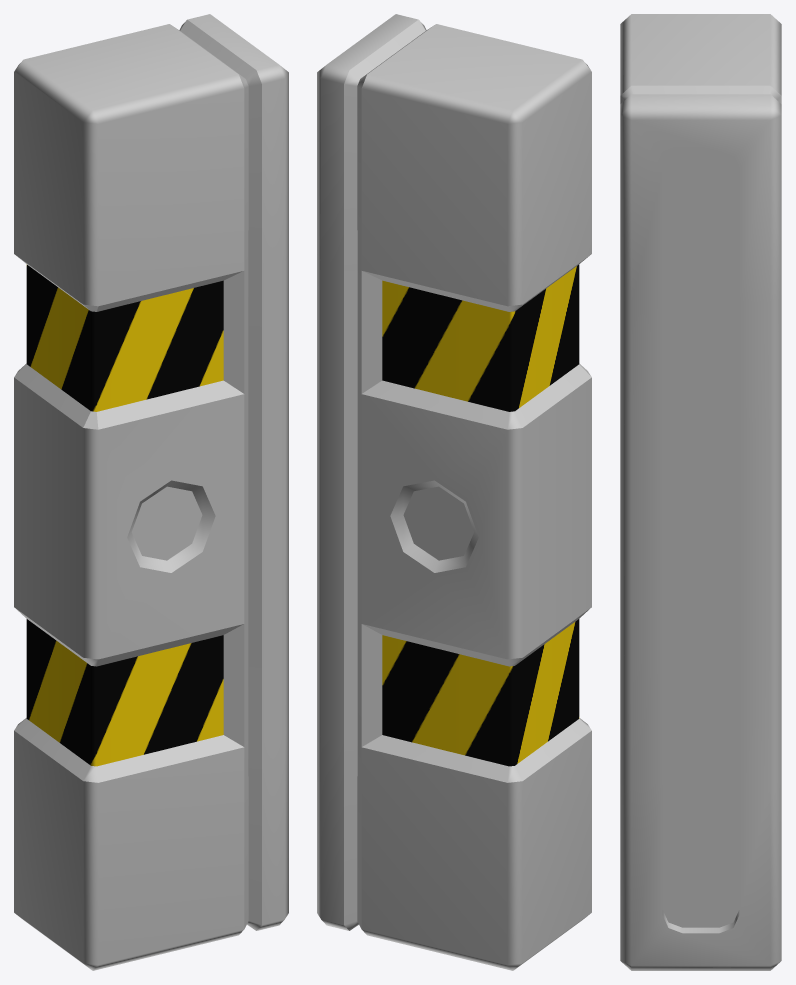
The model's file is obstacle_18_001.fbx.
3 views of the same model, side by side, from view 1: azimuth 30°, elevation 25°; view 2: azimuth 150°, elevation 25°; view 3: azimuth 270°, elevation 25° (orthographic).
Parts seen in each view (by area): view 1: obstacle_18_001; view 2: obstacle_18_001; view 3: obstacle_18_001.
Boxes of the visible parts, x1,y1,x2,y2 form: obstacle_18_001: (14, 14, 288, 970); obstacle_18_001: (317, 14, 591, 970); obstacle_18_001: (620, 14, 781, 970).
Size of the model in its own units: 100 by 67.59 by 400.
